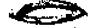Mouth: (9, 1, 90, 26)
